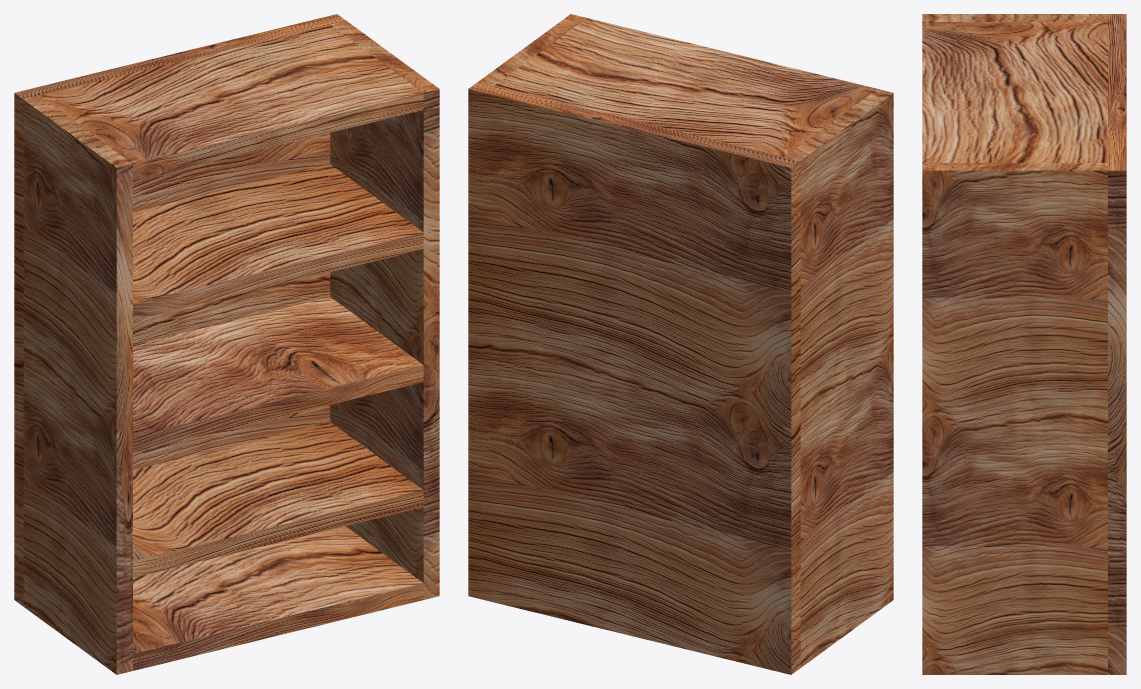
The model's file is EstanteLibros.obj.
3 views of the same model, side by side, from view 1: azimuth 30°, elevation 25°; view 2: azimuth 150°, elevation 25°; view 3: azimuth 270°, elevation 25° (orthographic).
Visible parts, largest first — view 1: estante2; view 2: estante2; view 3: estante2.
Boxes of the visible parts, x1,y1,x2,y2 form: estante2: (14, 14, 439, 674); estante2: (468, 14, 893, 674); estante2: (922, 14, 1126, 674).
Size of the model in its own units: 1.2 by 1.8 by 0.66.
Materials: 1 (1 with a texture image).
